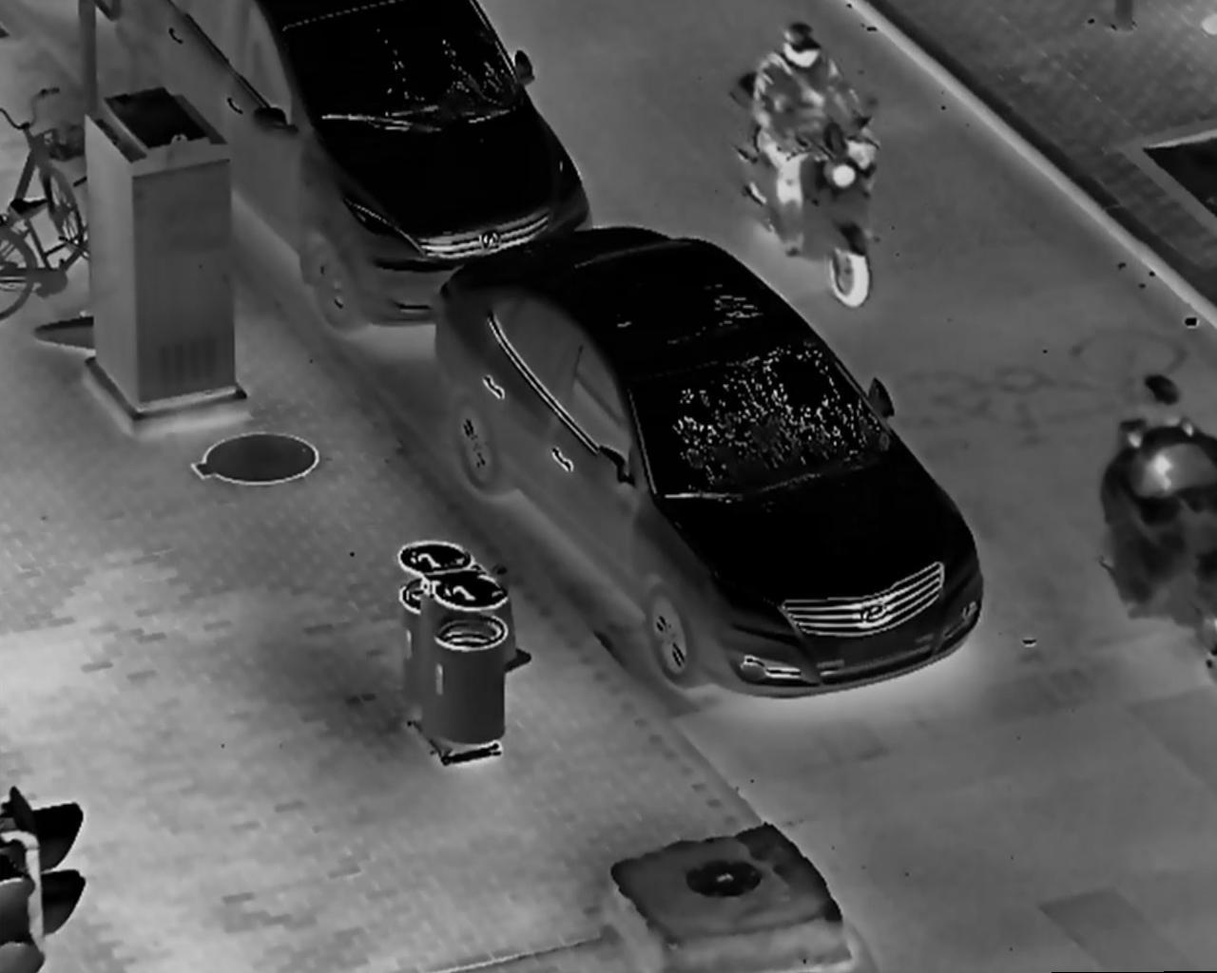person: (748, 20, 883, 267), (1106, 366, 1217, 601)
